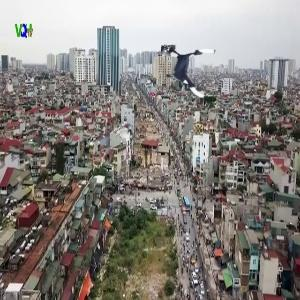drone: (162, 45, 218, 101)
